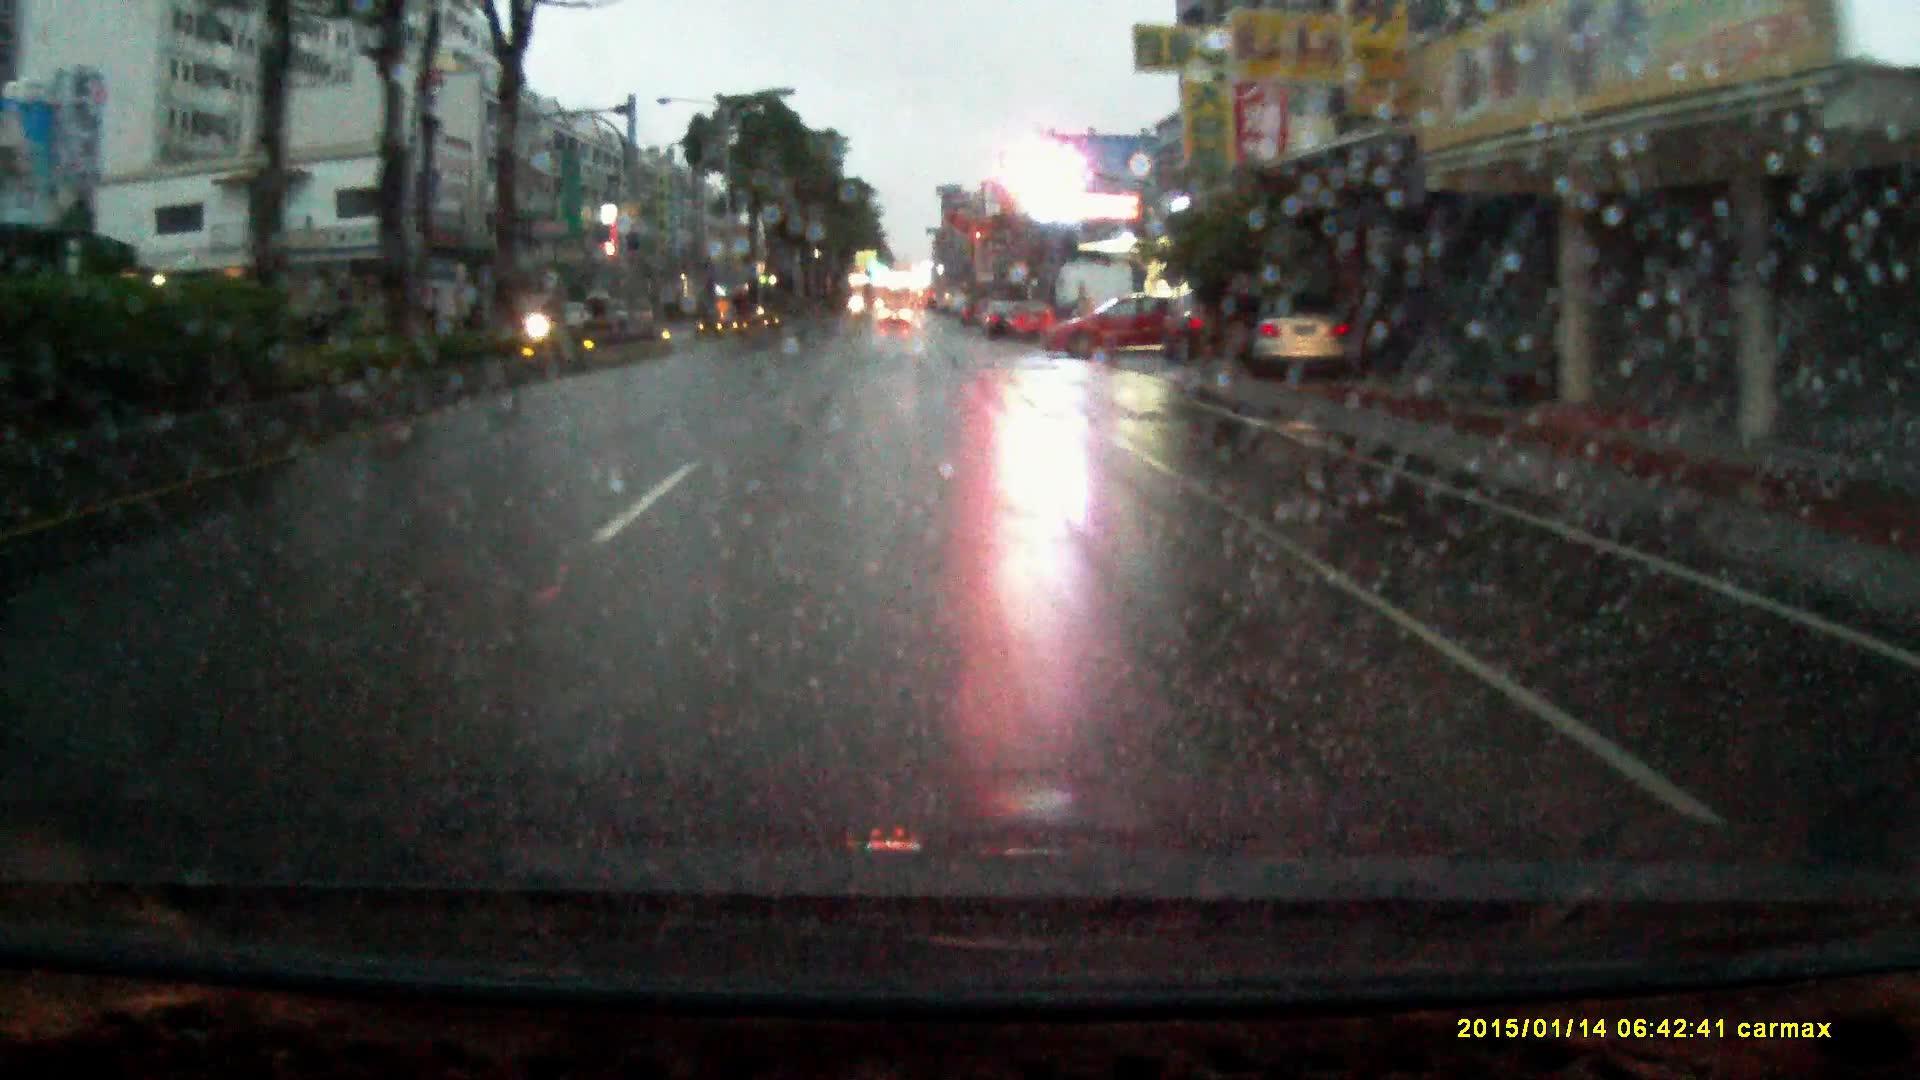vehicle: (1039, 291, 1193, 357), (1242, 293, 1357, 381), (1162, 284, 1262, 367), (495, 295, 572, 342), (1007, 297, 1056, 340), (980, 298, 1025, 338), (880, 301, 914, 328)
